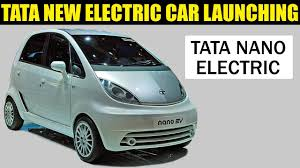Nano: (4, 28, 197, 162)
